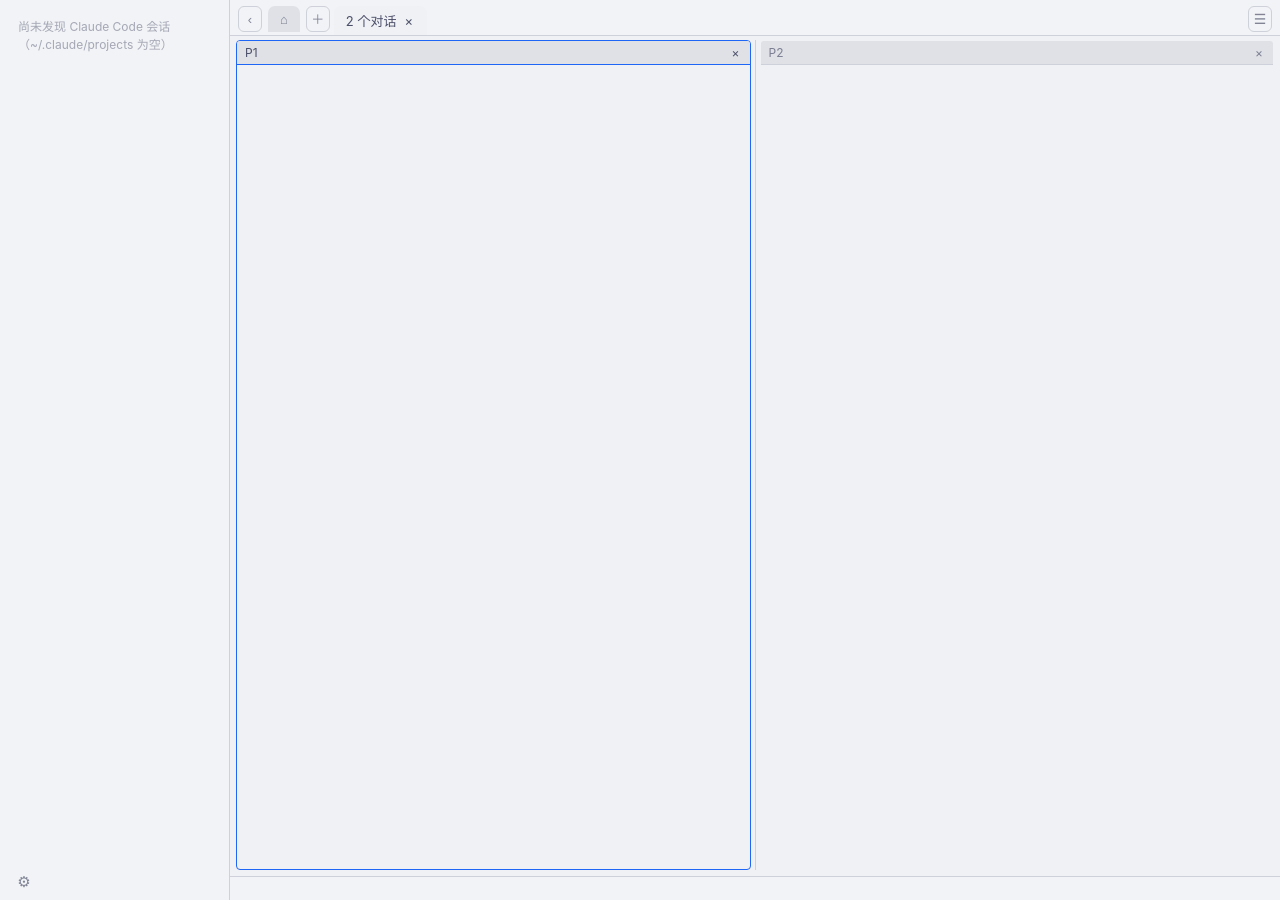
Scenario: TabBar — 标签右键菜单（拆分为独立标签 / 关闭标签） › 点击「拆分为独立标签」：产生 N 个各持有一个窗格的新标签，pane id 原样保留，菜单随即关闭
Step 1. Right-click the text "2 个对话" → (380, 20), box x1=334 y1=6 x2=427 y2=35
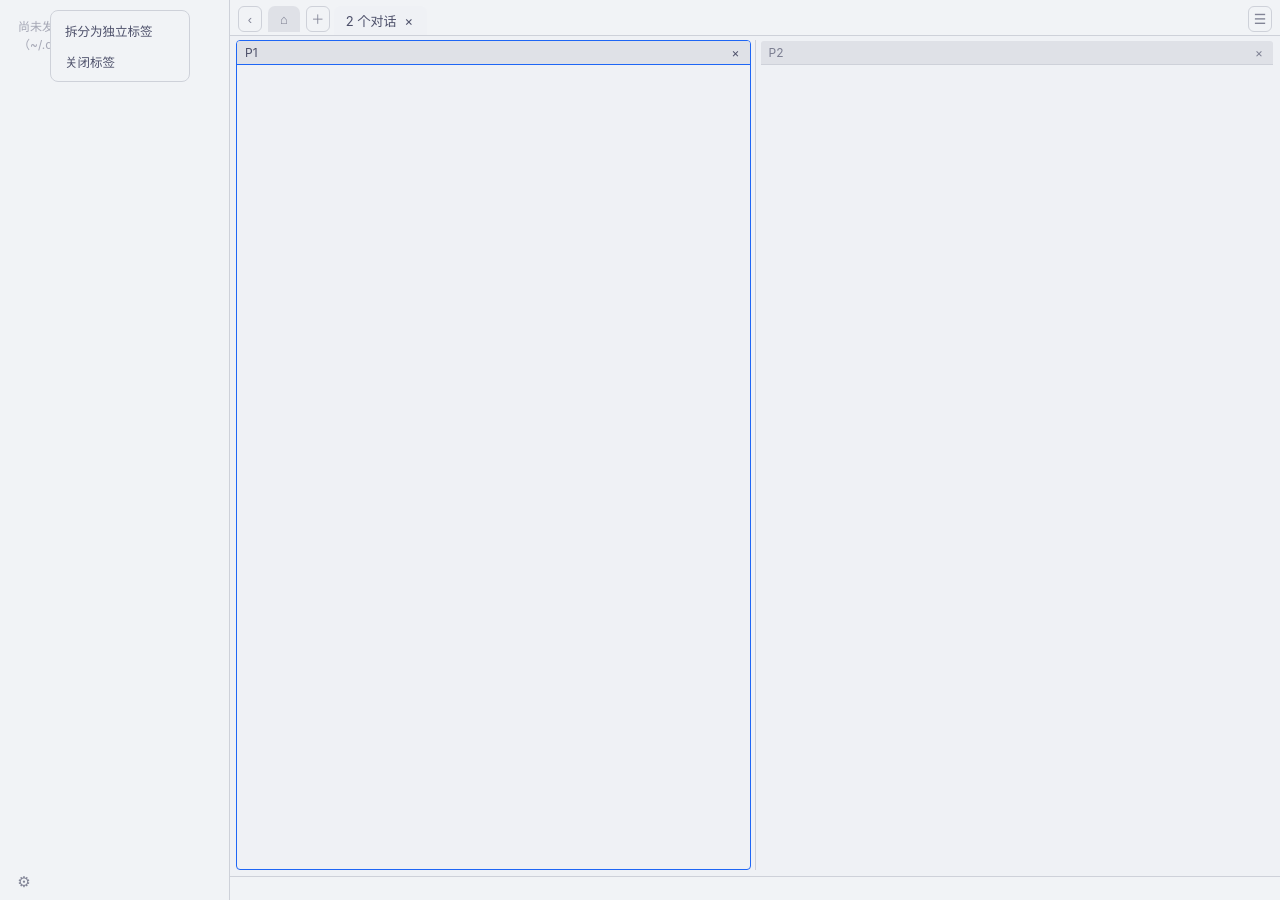
Step 2. Click the menu item "拆分为独立标签" → (109, 32), box x1=65 y1=24 x2=152 y2=39
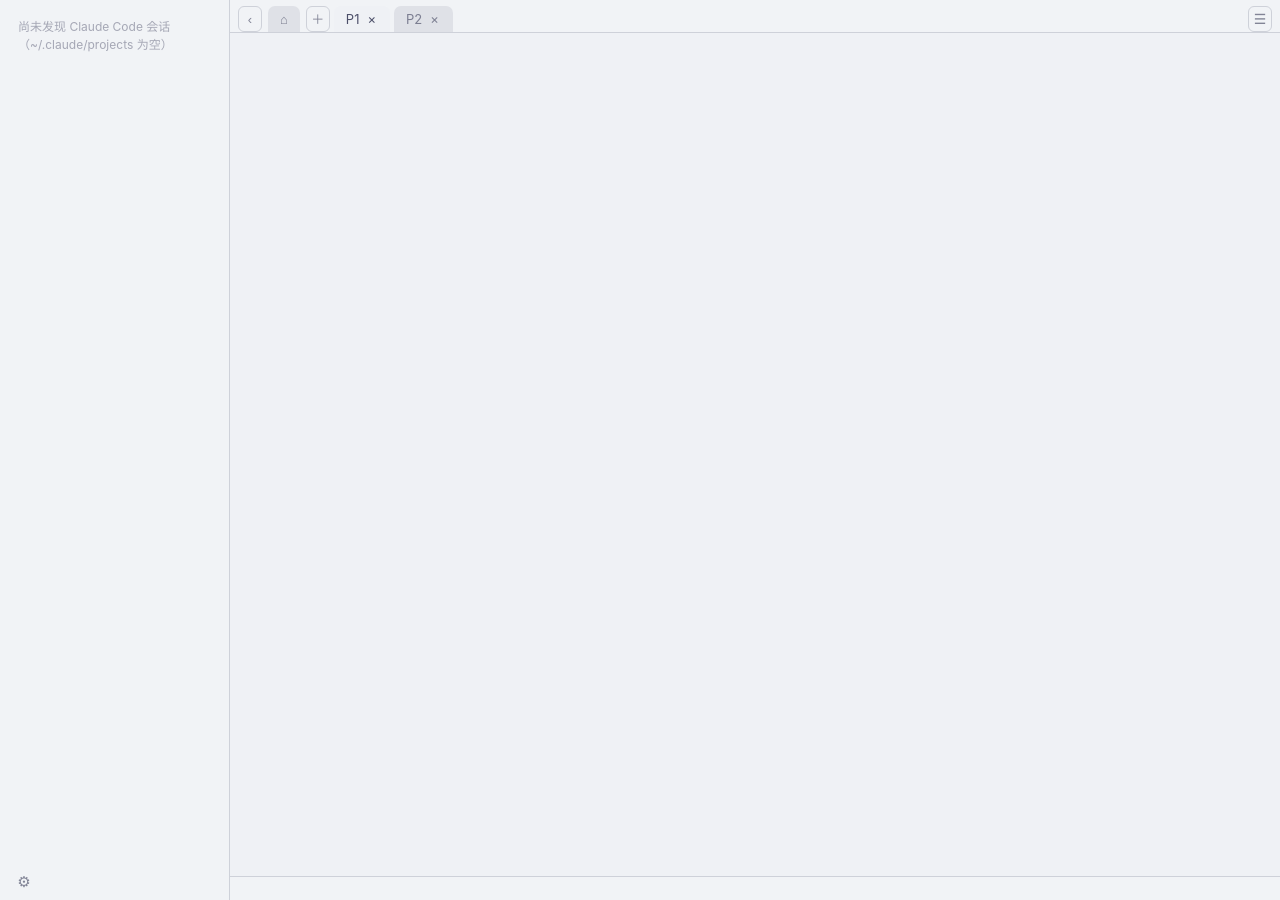
Expected: the menu item "拆分为独立标签" is gone
